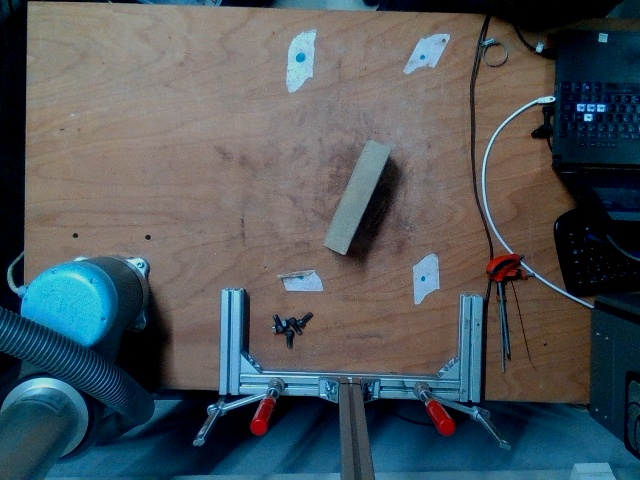brick-side: (323, 141, 389, 251)
